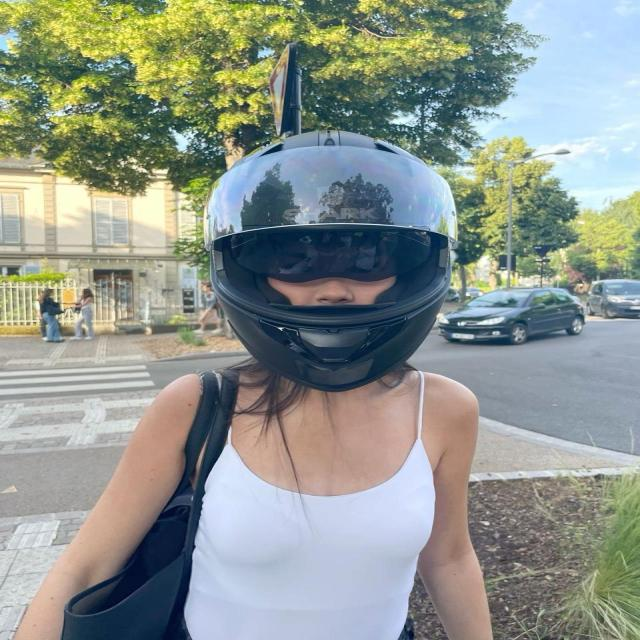5_casco: (189, 123, 478, 397)
